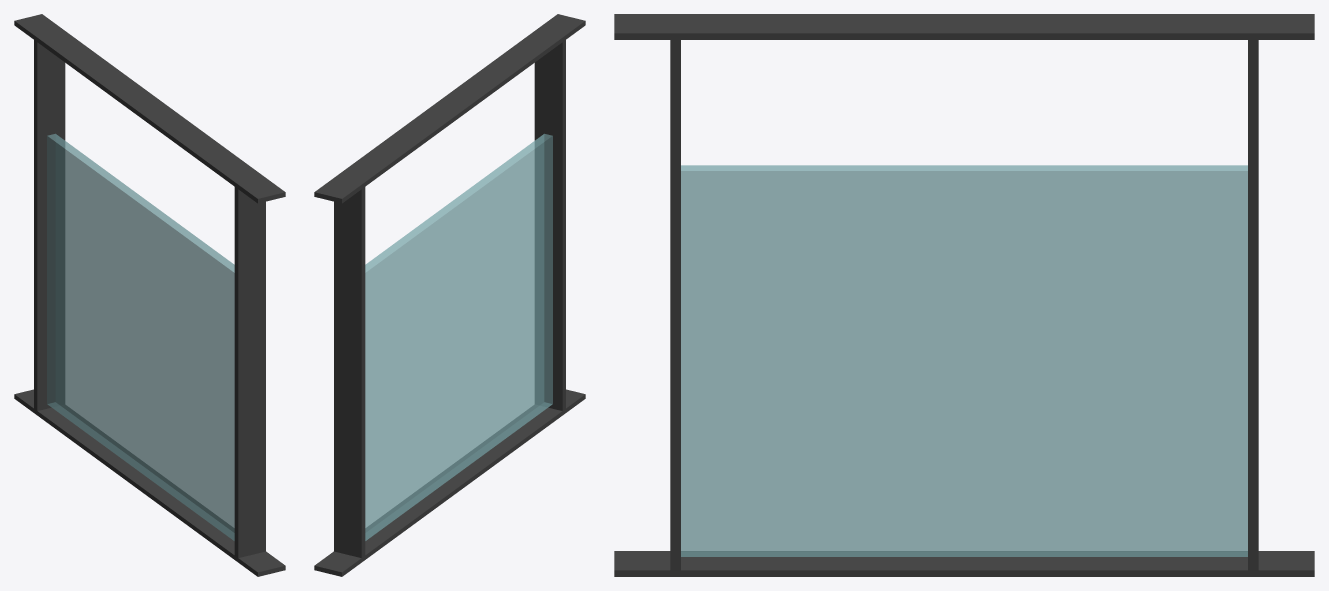
File: Handrail Chunk.fbx
3 renders of one model, left to right at view 1: azimuth 30°, elevation 25°; view 2: azimuth 150°, elevation 25°; view 3: azimuth 270°, elevation 25°, orthographic. The views are drawn at different scales.
Visible parts, largest first — view 1: Handrail; view 2: Handrail; view 3: Handrail.
Part boxes in pixels (bbox=[...]): Handrail: bbox=[14, 14, 285, 576]; Handrail: bbox=[314, 14, 585, 576]; Handrail: bbox=[614, 14, 1314, 576].
Size of the model in its own units: 5 by 65.08 by 76.
